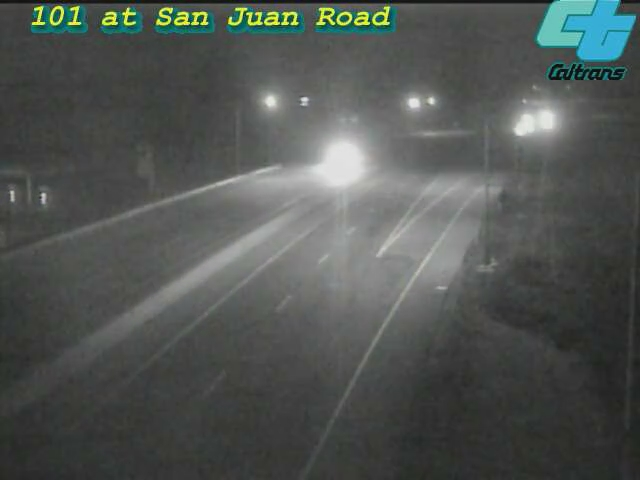vehicle: (320, 133, 370, 183), (490, 107, 540, 157), (502, 96, 552, 146), (521, 94, 571, 144)
